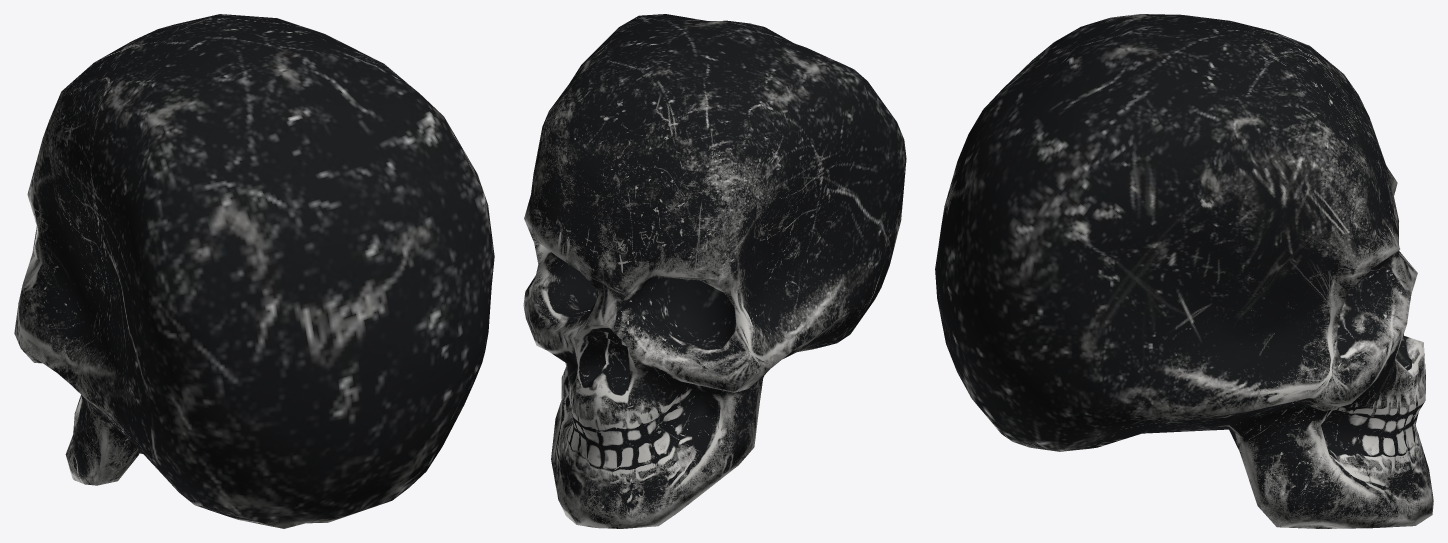
The picture shows the model from 3 angles, left to right: view 1: azimuth 30°, elevation 25°; view 2: azimuth 150°, elevation 25°; view 3: azimuth 270°, elevation 25°; orthographic projection. The views are drawn at different scales.
Visible parts, largest first — view 1: lowPolySkull; view 2: lowPolySkull; view 3: lowPolySkull.
Part boxes in pixels (left/top/right/bottom): lowPolySkull: left=14, top=14, right=494, bottom=528; lowPolySkull: left=523, top=14, right=906, bottom=528; lowPolySkull: left=935, top=14, right=1433, bottom=528.
Bounding box in the file's own units: 1.41 × 2 × 1.93.
1 material, 1 textured.
